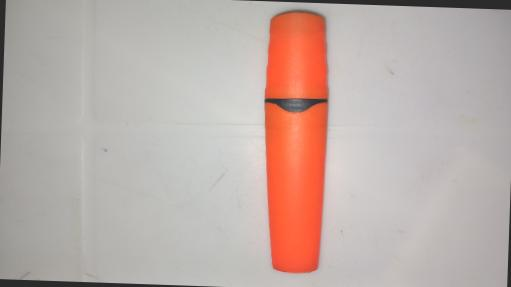Highlighter: (259, 9, 330, 278)
